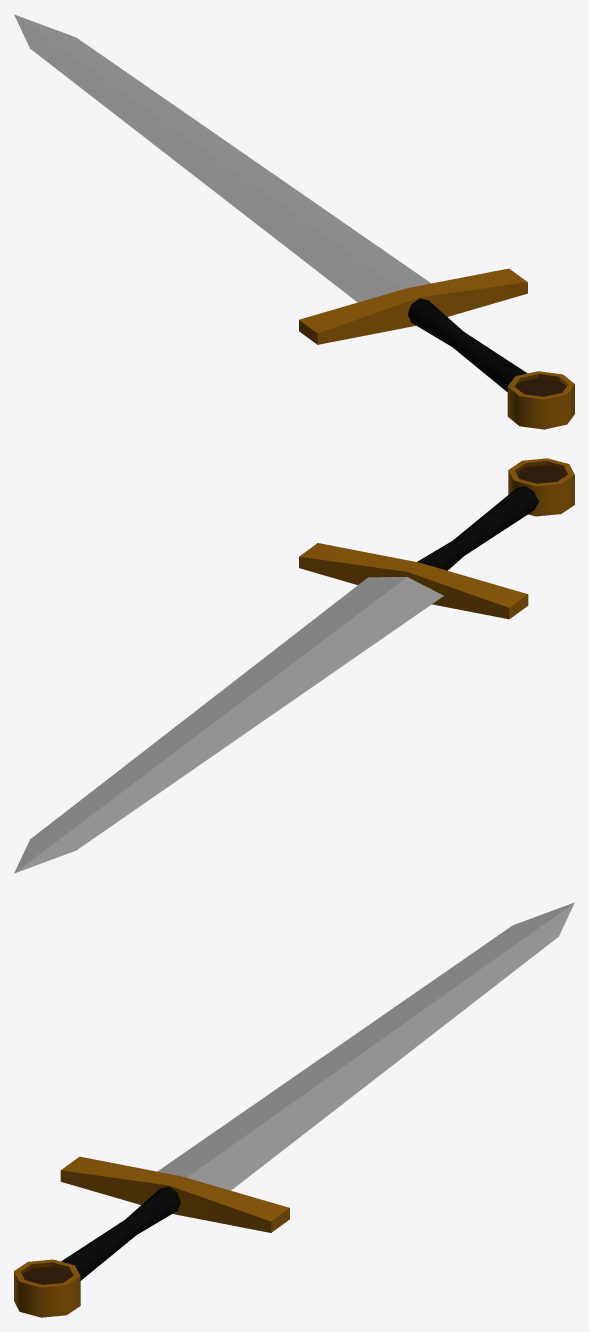
The model's file is Sword.fbx.
3 views of the same model, one above another, from view 1: azimuth 30°, elevation 25°; view 2: azimuth 150°, elevation 25°; view 3: azimuth 330°, elevation 25° (orthographic).
Visible parts, largest first — view 1: Box001, Box002, Cylinder002, Cylinder001; view 2: Box001, Box002, Cylinder001, Cylinder002; view 3: Box001, Box002, Cylinder002, Cylinder001.
Part boxes in pixels (x1,y1,x2,y2): Box001: (14,14,431,302); Box002: (299,268,527,344); Cylinder002: (507,371,574,429); Cylinder001: (408,298,527,391); Box001: (14,577,443,873); Box002: (299,543,528,619); Cylinder001: (417,486,538,570); Cylinder002: (508,458,574,516); Box001: (157,902,574,1190); Box002: (60,1156,289,1232); Cylinder002: (14,1259,80,1317); Cylinder001: (61,1186,180,1280).
Size of the model in its own units: 8.55 by 1.17 by 38.29.
